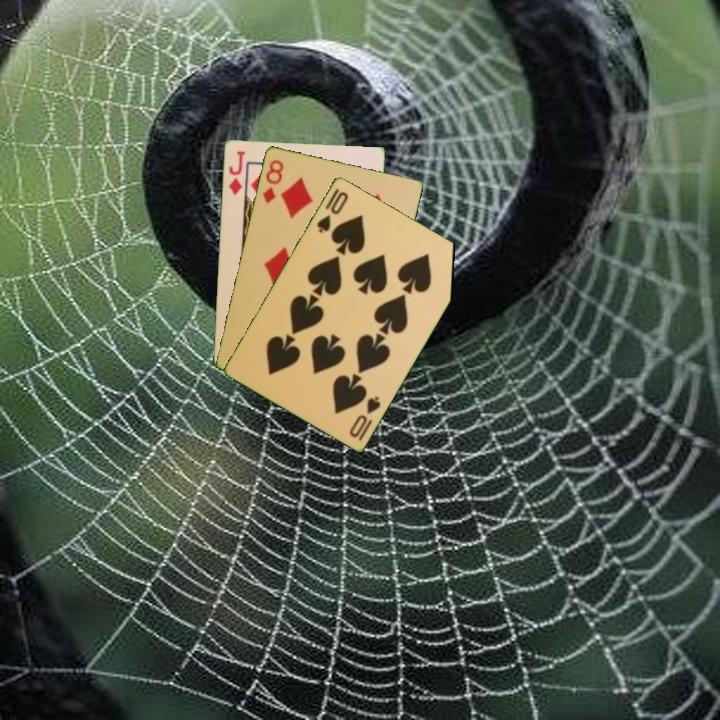10s: (346, 392, 384, 443), (313, 187, 351, 236)
8d: (259, 156, 286, 206)
Jd: (225, 147, 248, 198)
